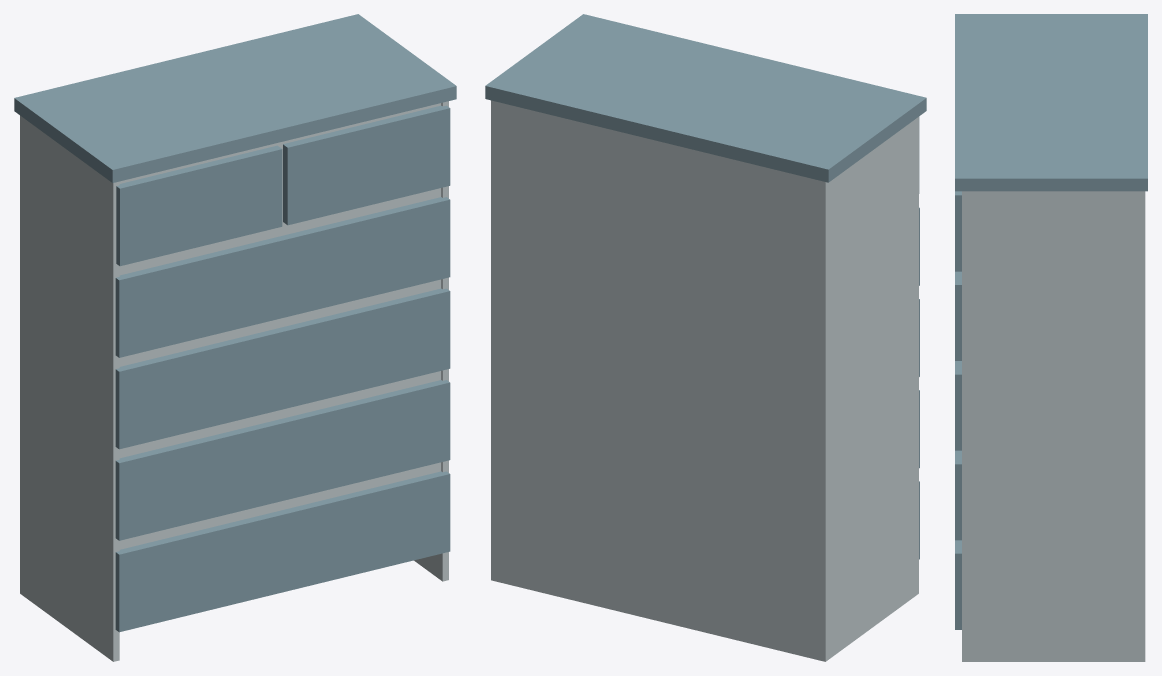
Rendered from shelf_032.glb.
3 renders of one model, left to right at view 1: azimuth 30°, elevation 25°; view 2: azimuth 150°, elevation 25°; view 3: azimuth 270°, elevation 25°, orthographic. The views are drawn at different scales.
Parts seen in each view (by area): view 1: shelf_032; view 2: shelf_032; view 3: shelf_032.
Boxes of the visible parts, x1=… form: shelf_032: x1=14, y1=14, x2=456, y2=661; shelf_032: x1=485, y1=14, x2=926, y2=661; shelf_032: x1=955, y1=14, x2=1147, y2=661.
Bounding box in the file's own units: 0.6285 × 0.8648 × 0.3114.
Materials: 1 (1 with a texture image).
